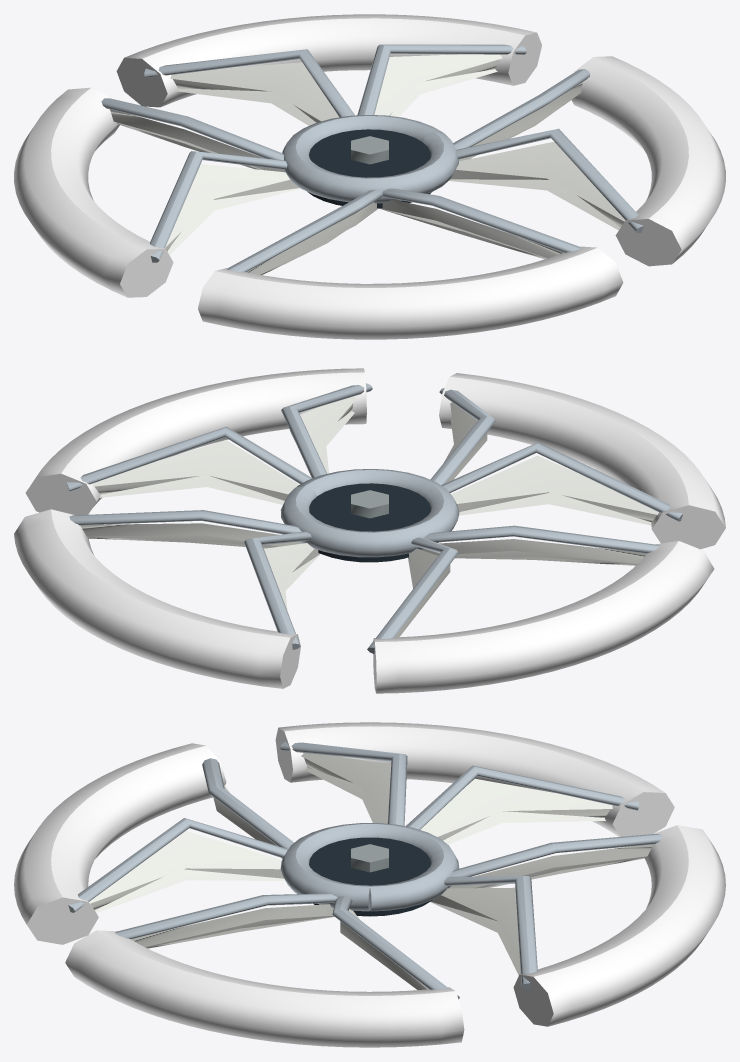
Rendered from Wheel_27_SSR_青鋼・白稜.glb.
3 renders of one model, top to bottom at view 1: azimuth 30°, elevation 25°; view 2: azimuth 150°, elevation 25°; view 3: azimuth 270°, elevation 25°, orthographic.
Parts seen in each view (by area): view 1: Wheel_27_SSR; view 2: Wheel_27_SSR; view 3: Wheel_27_SSR.
Boxes of the visible parts, x1=… form: Wheel_27_SSR: x1=14, y1=14, x2=725, y2=339; Wheel_27_SSR: x1=14, y1=368, x2=725, y2=693; Wheel_27_SSR: x1=14, y1=722, x2=725, y2=1047.
Size of the model in its own units: 0.326 by 0.039 by 0.326.
4 materials, 4 textured.
